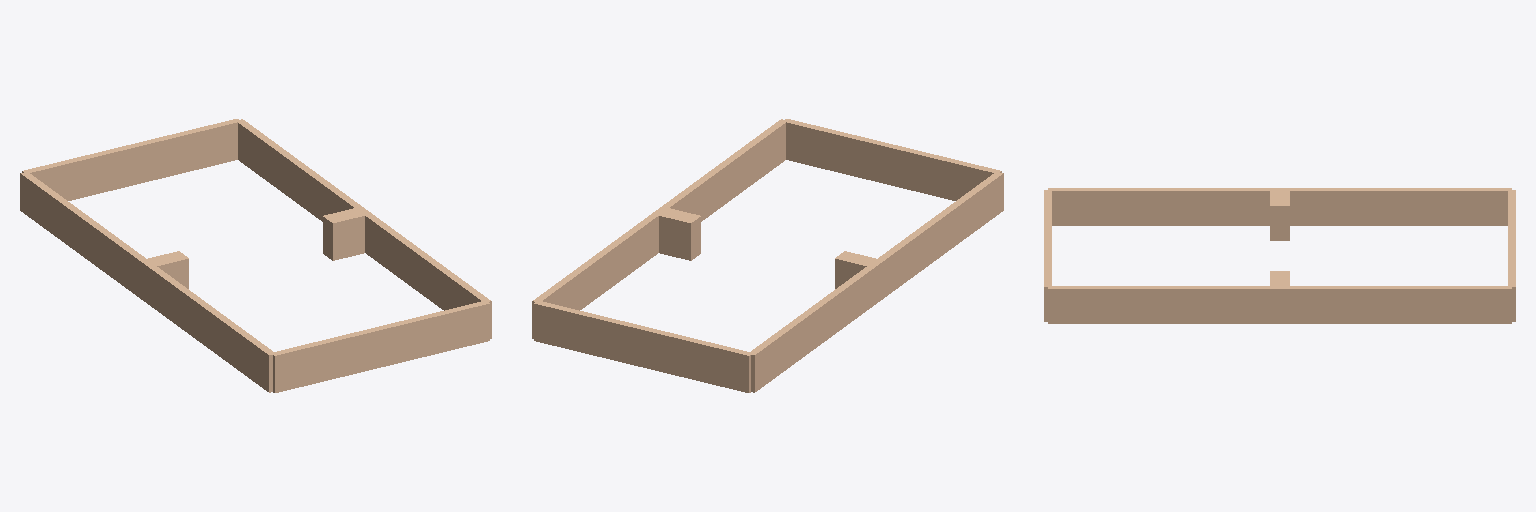
URDF robot description (walls):
<?xml version="1.0"?>
<robot name="walls">
  <!--Room 0-->
  <link name="wall_link0">
    <visual>
      <origin xyz="3 0 0" rpy="0 0 0" />
      <geometry>
        <box size="0.2 6 1" />
      </geometry>
      <material name="desert sand">
        <color rgba="0.9297 0.7930 0.6758 1" />
      </material>
    </visual>
    <collision>
      <origin xyz="3 0 0" rpy="0 0 0" />
      <geometry>
        <box size="0.2 6 1" />
      </geometry>
    </collision>
  </link>
  <joint name="joint01" type="fixed">
    <parent link="wall_link0"/>
    <child link="wall_link1"/>
    <origin xyz="0 0 0"/>
  </joint>
  <link name="wall_link1">
    <visual>
      <origin xyz="-3 0 0" rpy="0 0 0" />
      <geometry>
        <box size="0.2 6 1" />
      </geometry>
      <material name="desert sand">
        <color rgba="0.9297 0.7930 0.6758 1" />
      </material>
    </visual>
    <collision>
      <origin xyz="-3 0 0" rpy="0 0 0" />
      <geometry>
        <box size="0.2 6 1" />
      </geometry>
    </collision>
  </link>
  <joint name="joint12" type="fixed">
    <parent link="wall_link1"/>
    <child link="wall_link2"/>
    <origin xyz="0 0 0"/>
  </joint>
  <link name="wall_link2">
    <visual>
      <origin xyz="0 -3 0" rpy="0 0 0" />
      <geometry>
        <box size="6 0.2 1" />
      </geometry>
      <material name="desert sand">
        <color rgba="0.9297 0.7930 0.6758 1" />
      </material>
    </visual>
    <collision>
      <origin xyz="0 -3 0" rpy="0 0 0" />
      <geometry>
        <box size="6 0.2 1" />
      </geometry>
    </collision>
  </link>
  <joint name="joint03" type="fixed">
    <parent link="wall_link0"/>
    <child link="wall_link3"/>
    <origin xyz="0 0 0"/>
  </joint>
  <link name="wall_link3">
    <visual>
      <origin xyz="2.5 3 0" rpy="0 0 0" />
      <geometry>
        <box size="1 0.5 1" />
      </geometry>
      <material name="desert sand">
        <color rgba="0.9297 0.7930 0.6758 1" />
      </material>
    </visual>
    <collision>
      <origin xyz="2.5 3 0" rpy="0 0 0" />
      <geometry>
        <box size="1 0.5 1" />
      </geometry>
    </collision>
  </link>
  <joint name="joint04" type="fixed">
    <parent link="wall_link0"/>
    <child link="wall_link4"/>
    <origin xyz="0 0 0"/>
  </joint>
  <link name="wall_link4">
    <visual>
      <origin xyz="-2.5 3 0" rpy="0 0 0" />
      <geometry>
        <box size="1 0.5 1" />
      </geometry>
      <material name="desert sand">
        <color rgba="0.9297 0.7930 0.6758 1" />
      </material>
    </visual>
    <collision>
      <origin xyz="-2.5 3 0" rpy="0 0 0" />
      <geometry>
        <box size="1 0.5 1" />
      </geometry>
    </collision>
  </link>

  <!--Room 1-->
  <joint name="joint45" type="fixed">
    <parent link="wall_link4"/>
    <child link="wall_link5"/>
    <origin xyz="0 0 0"/>
  </joint>
  <link name="wall_link5">
    <visual>
      <origin xyz="3 6 0" rpy="0 0 0" />
      <geometry>
        <box size="0.2 6 1" />
      </geometry>
      <material name="desert sand">
        <color rgba="0.9297 0.7930 0.6758 1" />
      </material>
    </visual>
    <collision>
      <origin xyz="3 6 0" rpy="0 0 0" />
      <geometry>
        <box size="0.2 6 1" />
      </geometry>
    </collision>
  </link>
  <joint name="joint56" type="fixed">
    <parent link="wall_link5"/>
    <child link="wall_link6"/>
    <origin xyz="0 0 0"/>
  </joint>
  <link name="wall_link6">
    <visual>
      <origin xyz="-3 6 0" rpy="0 0 0" />
      <geometry>
        <box size="0.2 6 1" />
      </geometry>
      <material name="desert sand">
        <color rgba="0.9297 0.7930 0.6758 1" />
      </material>
    </visual>
    <collision>
      <origin xyz="-3 6 0" rpy="0 0 0" />
      <geometry>
        <box size="0.2 6 1" />
      </geometry>
    </collision>
  </link>
  <joint name="joint67" type="fixed">
    <parent link="wall_link6"/>
    <child link="wall_link7"/>
    <origin xyz="0 0 0"/>
  </joint>
  <link name="wall_link7">
    <visual>
      <origin xyz="0 9 0" rpy="0 0 0" />
      <geometry>
        <box size="6 0.2 1" />
      </geometry>
      <material name="desert sand">
        <color rgba="0.9297 0.7930 0.6758 1" />
      </material>
    </visual>
    <collision>
      <origin xyz="0 9 0" rpy="0 0 0" />
      <geometry>
        <box size="6 0.2 1" />
      </geometry>
    </collision>
  </link>
</robot>

--- What the picture shows (computed from the rendered views, not written in the file) ---
3 views of the same robot in one strip: view 1: azimuth 30°, elevation 25°; view 2: azimuth 150°, elevation 25°; view 3: azimuth 270°, elevation 25° (orthographic).
Model walls with 8 links and 7 joints (7 fixed), rooted at wall_link0, posed all joints at 0.
Visible links, largest first — view 1: wall_link2, wall_link7, wall_link1, wall_link6, wall_link0, wall_link5, wall_link3, wall_link4; view 2: wall_link7, wall_link2, wall_link6, wall_link1, wall_link5, wall_link0, wall_link3, wall_link4; view 3: wall_link0, wall_link5, wall_link1, wall_link6, wall_link4, wall_link2, wall_link7.
Link boxes in pixels (x1,y1,x2,y2): wall_link2: (272,301,489,392); wall_link7: (22,119,240,200); wall_link1: (145,264,274,392); wall_link6: (20,172,147,301); wall_link0: (363,210,491,338); wall_link5: (237,119,365,221); wall_link3: (323,208,367,260); wall_link4: (144,251,188,288); wall_link7: (534,301,751,392); wall_link2: (785,119,1001,200); wall_link6: (749,264,878,392); wall_link1: (876,172,1003,301); wall_link5: (532,210,662,338); wall_link0: (658,119,786,221); wall_link3: (656,208,700,260); wall_link4: (835,251,879,288); wall_link0: (1048,286,1279,323); wall_link5: (1280,286,1511,323); wall_link1: (1048,188,1279,225); wall_link6: (1280,188,1511,225); wall_link4: (1270,190,1289,240); wall_link2: (1044,190,1051,321); wall_link7: (1508,190,1515,321).
Size in the robot's own frame: 6.2 by 12.2 by 1 metres.
Geometry: primitives only (box / cylinder / sphere), no mesh files.